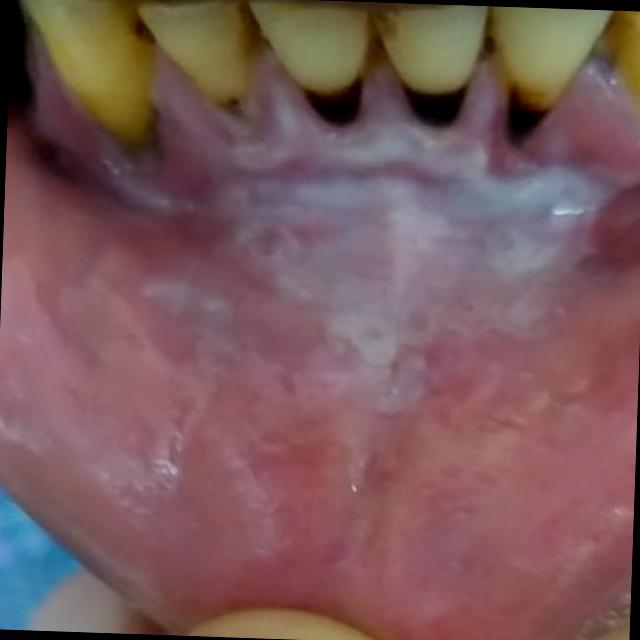Cancer: (193, 84, 634, 365)
